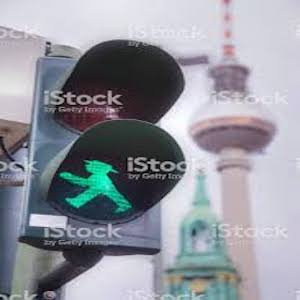green: (61, 154, 134, 222)
